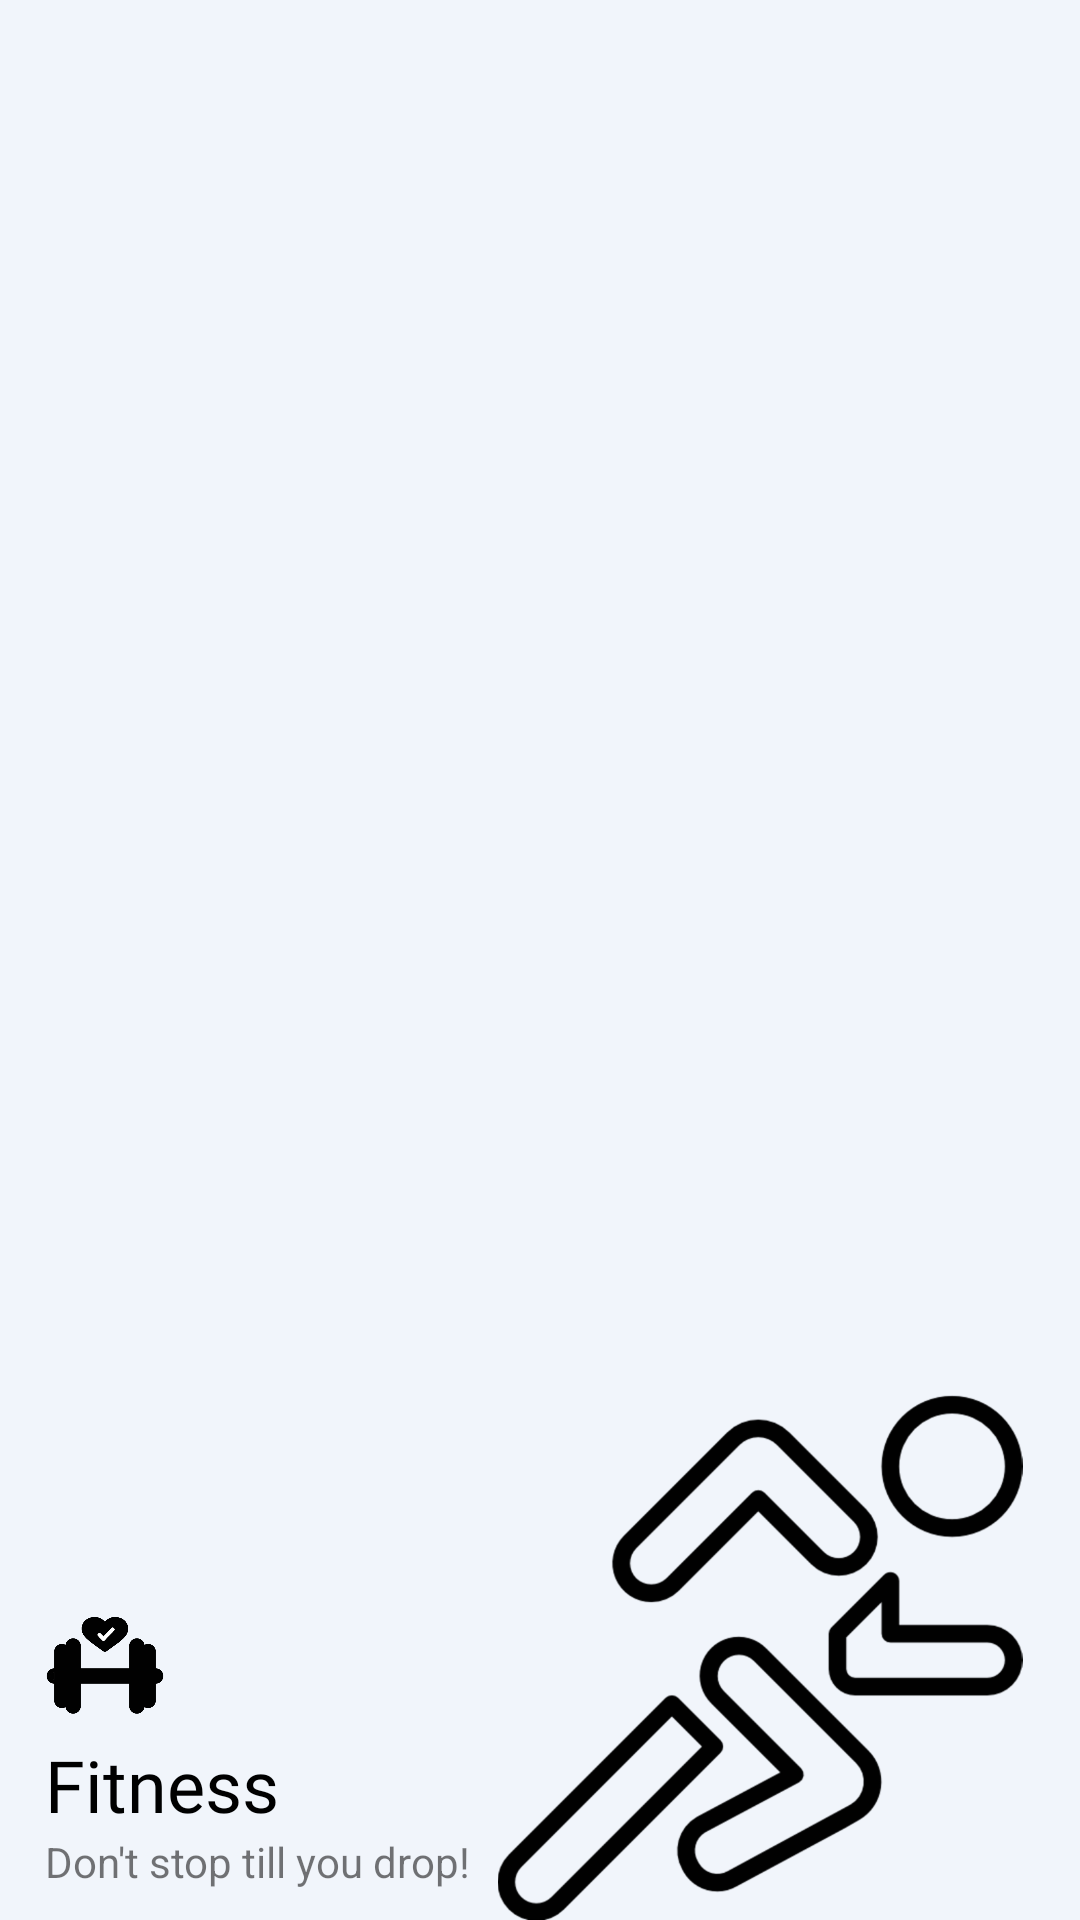

Icon bounding boxes for this 1080w x 1920h phone screenshot, format [left=x1, top=y1, right=x2, bottom=y2]:
dumbell: [left=47, top=1617, right=163, bottom=1714]
